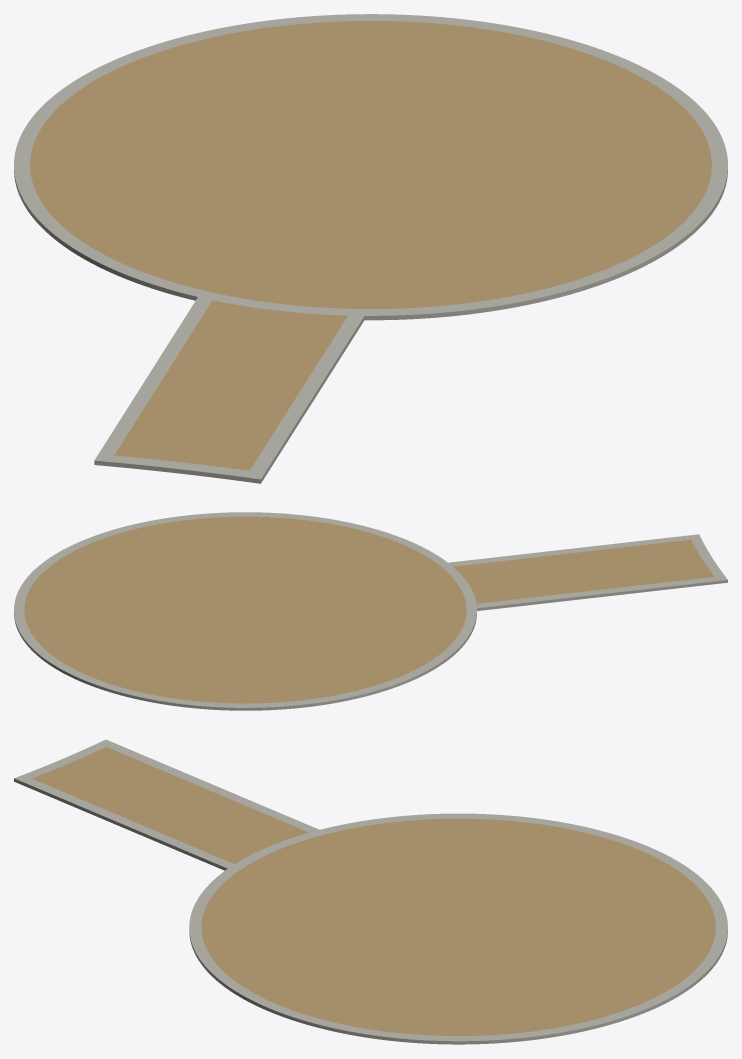
Rendered from bola_lobby.glb.
3 views of the same model, one above another, from view 1: azimuth 30°, elevation 25°; view 2: azimuth 150°, elevation 25°; view 3: azimuth 270°, elevation 25° (orthographic). The views are drawn at different scales.
Visible parts, largest first — view 1: D-BORDE-BLANCO-GRIS; view 2: D-BORDE-BLANCO-GRIS; view 3: D-BORDE-BLANCO-GRIS.
Part boxes in pixels (bbox=[...]): D-BORDE-BLANCO-GRIS: bbox=[14, 14, 727, 483]; D-BORDE-BLANCO-GRIS: bbox=[14, 512, 727, 710]; D-BORDE-BLANCO-GRIS: bbox=[14, 739, 727, 1044].
Bounding box in the file's own units: 23.59 × 0.121 × 23.59.
